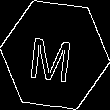M_N: (31, 27, 79, 83)
